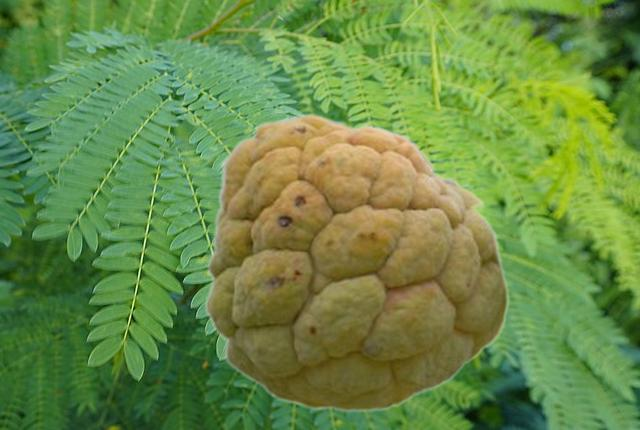atis: (203, 112, 508, 411)
